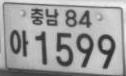1: (34, 30, 50, 66)
4: (79, 10, 92, 29)
5: (54, 31, 75, 68)
8: (64, 8, 78, 27)
9: (75, 32, 95, 67), (97, 33, 116, 68)
아: (10, 29, 29, 58)
충남_H: (29, 6, 60, 27)
